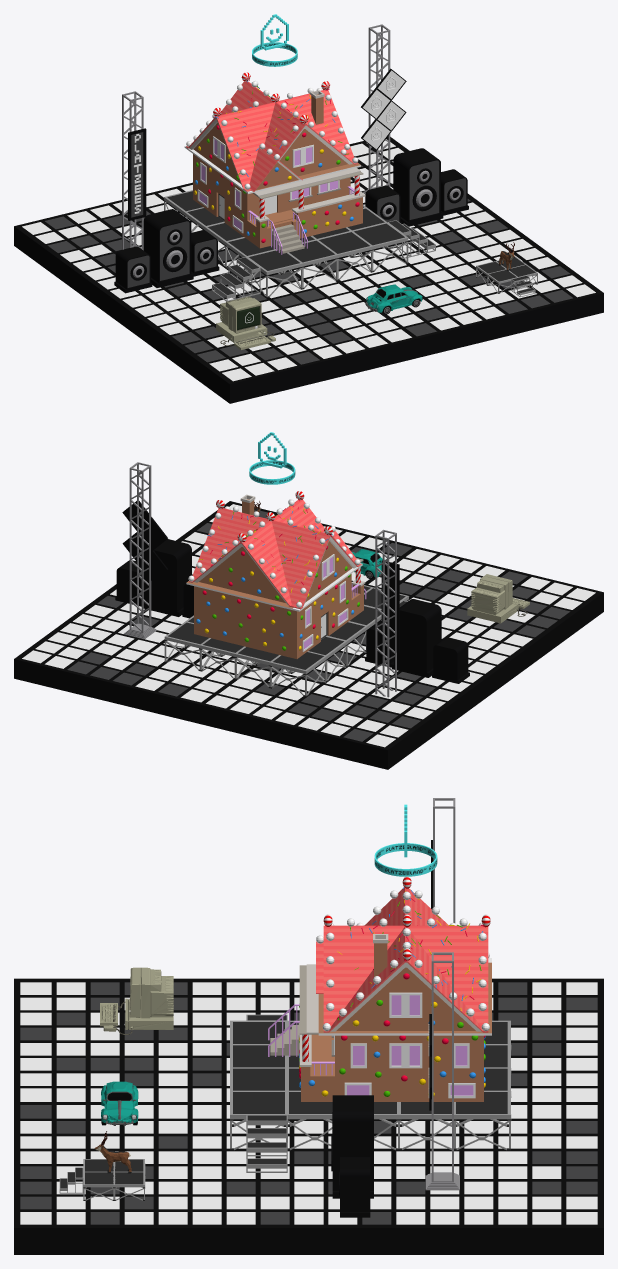
3 renders of one model, top to bottom at view 1: azimuth 30°, elevation 25°; view 2: azimuth 150°, elevation 25°; view 3: azimuth 270°, elevation 25°, orthographic. The views are drawn at different scales.
Parts seen in each view (by area): view 1: Cube.008, Cube.1203, OBJRANDOM_RETRO_PC, VEHICLES_VOLKSWAGEN, TYPE_PREMIUM; view 2: Cube.008, Cube.1203, OBJRANDOM_RETRO_PC, TYPE_PREMIUM, VEHICLES_VOLKSWAGEN; view 3: Cube.008, Cube.1203, OBJRANDOM_RETRO_PC, VEHICLES_VOLKSWAGEN, TYPE_PREMIUM.
Boxes of the visible parts, x1,y1,x2,y2 form: Cube.008: [14, 24, 603, 403]; Cube.1203: [184, 72, 365, 254]; OBJRANDOM_RETRO_PC: [216, 296, 275, 349]; VEHICLES_VOLKSWAGEN: [365, 284, 422, 314]; TYPE_PREMIUM: [252, 14, 297, 66]; Cube.008: [14, 462, 603, 769]; Cube.1203: [186, 491, 366, 658]; OBJRANDOM_RETRO_PC: [467, 574, 529, 623]; TYPE_PREMIUM: [249, 432, 295, 484]; VEHICLES_VOLKSWAGEN: [352, 549, 382, 579]; Cube.008: [14, 798, 603, 1254]; Cube.1203: [268, 876, 491, 1101]; OBJRANDOM_RETRO_PC: [100, 967, 173, 1034]; VEHICLES_VOLKSWAGEN: [101, 1081, 138, 1125]; TYPE_PREMIUM: [374, 804, 437, 876].
Bounding box in the file's own units: 4000 × 2519 × 4000.
Materials: 47 (3 with a texture image).
